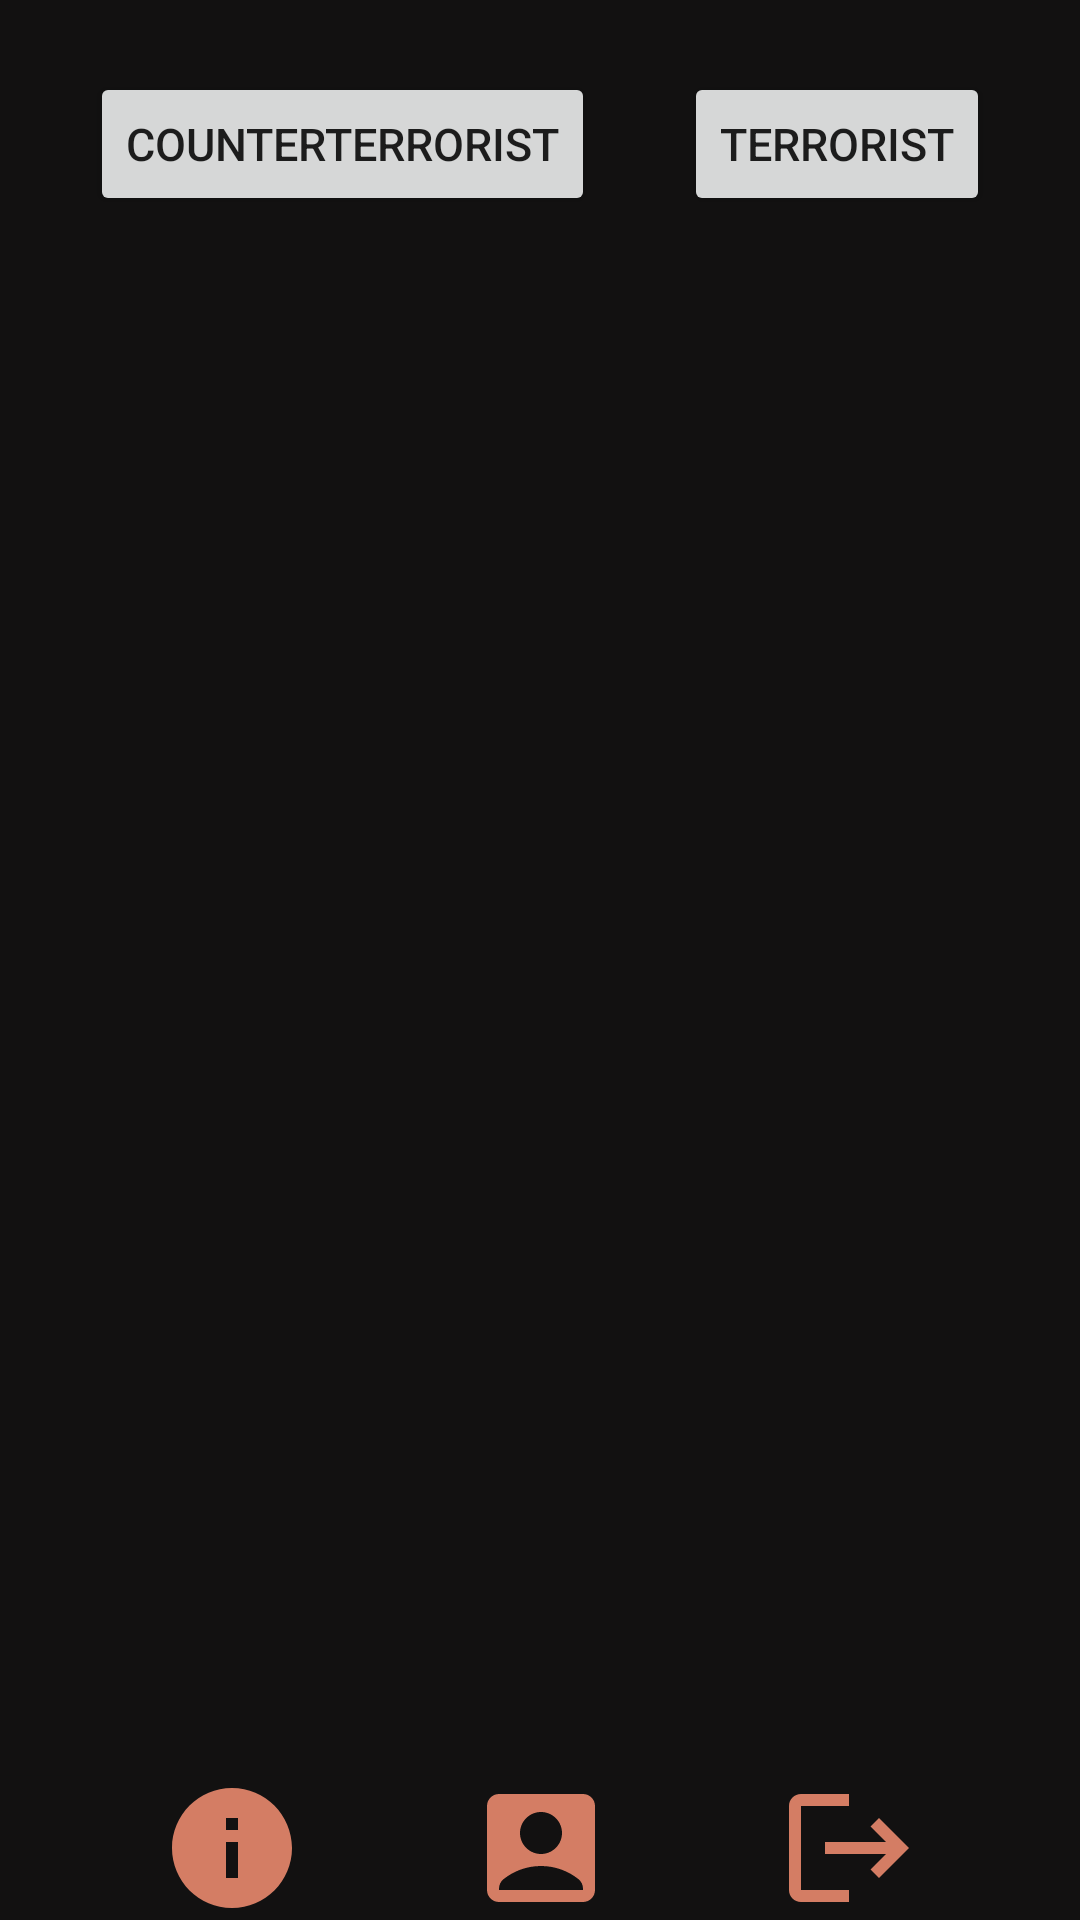

Named icons in this screenshot (1080*1920) and their centers, (x,y):
account box: (541,1848)
info: (232,1848)
